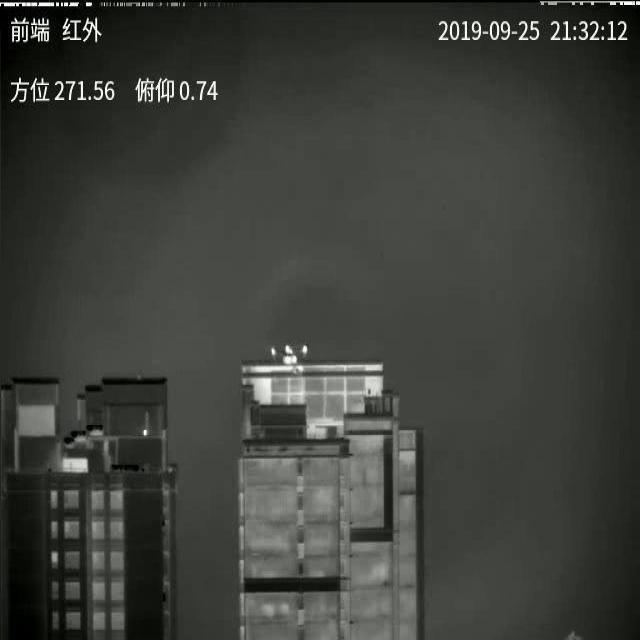drone: (270, 344, 309, 366)
